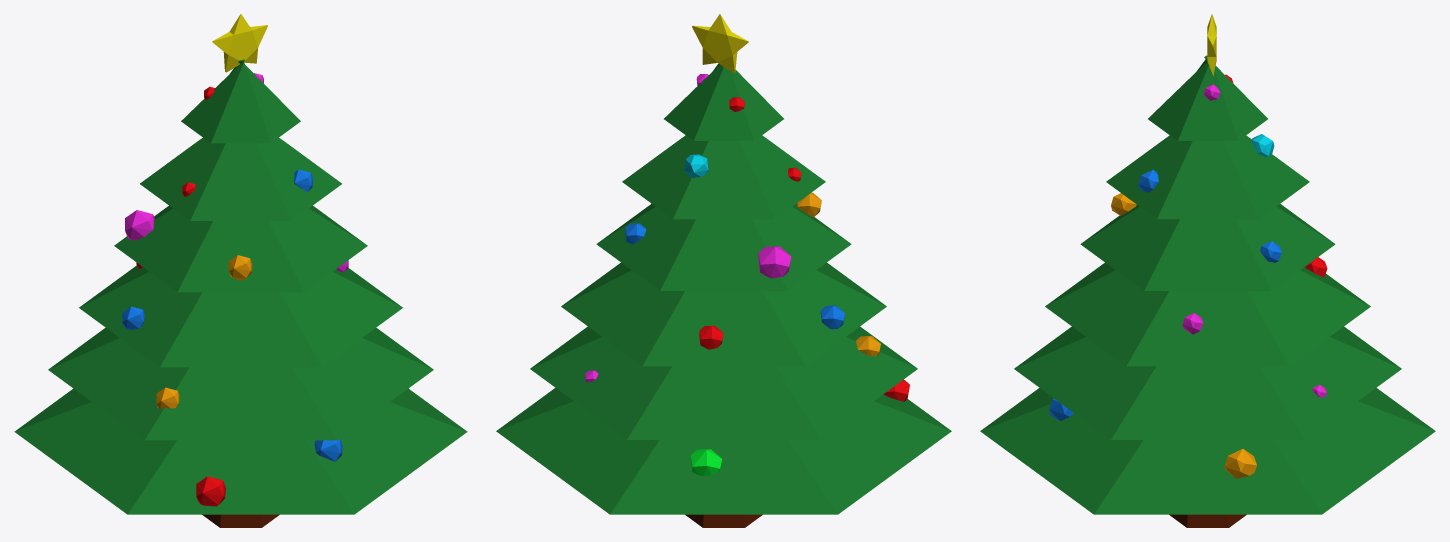
File: tree.glb
The picture shows the model from 3 angles, left to right: view 1: azimuth 30°, elevation 25°; view 2: azimuth 150°, elevation 25°; view 3: azimuth 270°, elevation 25°; orthographic projection.
Visible parts, largest first — view 1: Tree, Star, Branch, Icosphere016, Icosphere001; view 2: Tree, Star, Icosphere001, Branch, Icosphere014; view 3: Tree, Branch, Icosphere017.
Part boxes in pixels (left/top/right/bottom): Tree: left=14, top=59, right=467, bottom=514; Star: left=212, top=14, right=267, bottom=72; Branch: left=202, top=514, right=279, bottom=527; Icosphere016: left=196, top=476, right=225, bottom=506; Icosphere001: left=125, top=210, right=154, bottom=240; Tree: left=496, top=63, right=951, bottom=514; Star: left=692, top=14, right=748, bottom=73; Icosphere001: left=758, top=246, right=791, bottom=278; Branch: left=685, top=514, right=762, bottom=527; Icosphere014: left=690, top=449, right=722, bottom=476; Tree: left=980, top=55, right=1435, bottom=514; Branch: left=1169, top=514, right=1246, bottom=527; Icosphere017: left=1224, top=449, right=1256, bottom=478.
Size of the model in its own units: 700 by 977 by 809.
